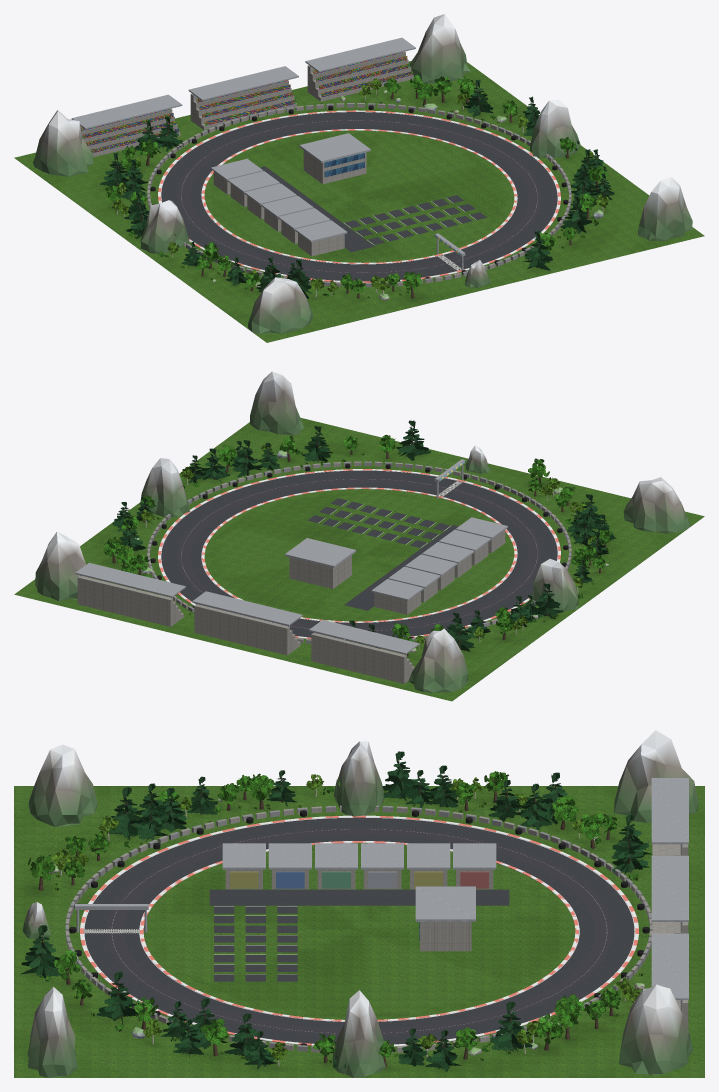
File: racing-circuit.glb
The picture shows the model from 3 angles, top to bottom: view 1: azimuth 30°, elevation 25°; view 2: azimuth 150°, elevation 25°; view 3: azimuth 270°, elevation 25°; orthographic projection. The views are drawn at different scales.
Visible parts, largest first — view 1: Scenery_ground, Scenery_asphalt, Scenery_rock, Scenery_concrete, Scenery_misc, Scenery_metal, Scenery_pine, Scenery_leaf, Scenery_crowd, Scenery_leafBirch, Scenery_tyre, Scenery_glass; view 2: Scenery_ground, Scenery_concrete, Scenery_rock, Scenery_asphalt, Scenery_metal, Scenery_misc, Scenery_pine, Scenery_leaf, Scenery_leafBirch; view 3: Scenery_ground, Scenery_asphalt, Scenery_rock, Scenery_metal, Scenery_misc, Scenery_pine, Scenery_concrete, Scenery_leaf, Scenery_leafBirch, Scenery_barkA, Scenery_tyre.
Part boxes in pixels (<box>): Scenery_ground: <box>14,61,704,342</box>; Scenery_asphalt: <box>161,112,557,281</box>; Scenery_rock: <box>33,14,692,333</box>; Scenery_concrete: <box>80,52,571,287</box>; Scenery_misc: <box>158,110,560,282</box>; Scenery_metal: <box>71,37,465,272</box>; Scenery_pine: <box>100,79,614,298</box>; Scenery_leaf: <box>105,74,607,296</box>; Scenery_crowd: <box>80,51,412,153</box>; Scenery_leafBirch: <box>112,78,608,291</box>; Scenery_tyre: <box>150,105,568,282</box>; Scenery_glass: <box>324,152,364,177</box>; Scenery_ground: <box>14,417,704,701</box>; Scenery_concrete: <box>77,461,571,683</box>; Scenery_rock: <box>35,371,690,692</box>; Scenery_asphalt: <box>161,470,557,639</box>; Scenery_metal: <box>75,459,507,655</box>; Scenery_misc: <box>158,461,560,639</box>; Scenery_pine: <box>112,420,616,651</box>; Scenery_leaf: <box>104,434,612,641</box>; Scenery_leafBirch: <box>112,443,599,643</box>; Scenery_ground: <box>14,786,704,1077</box>; Scenery_asphalt: <box>84,817,634,1044</box>; Scenery_rock: <box>22,730,698,1077</box>; Scenery_metal: <box>75,778,688,1010</box>; Scenery_misc: <box>80,815,638,1046</box>; Scenery_pine: <box>20,751,651,1071</box>; Scenery_concrete: <box>65,805,688,1052</box>; Scenery_leaf: <box>28,771,640,1059</box>; Scenery_leafBirch: <box>51,774,639,1059</box>; Scenery_barkA: <box>37,779,613,1067</box>; Scenery_tyre: <box>69,810,649,1045</box>.
Size of the model in its own units: 240 by 29.37 by 240.
Materials: 19 (17 with a texture image).
